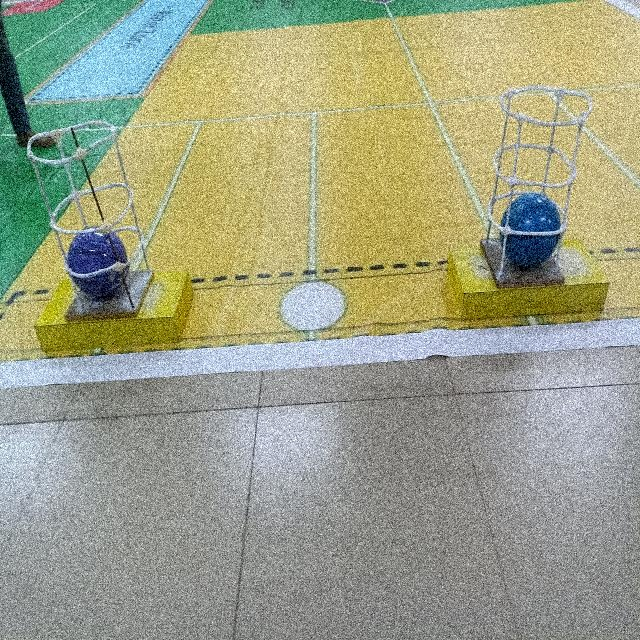blue_ball: (494, 182, 572, 270)
purple_ball: (61, 218, 133, 299)
silo: (482, 61, 598, 288), (26, 115, 149, 324)
